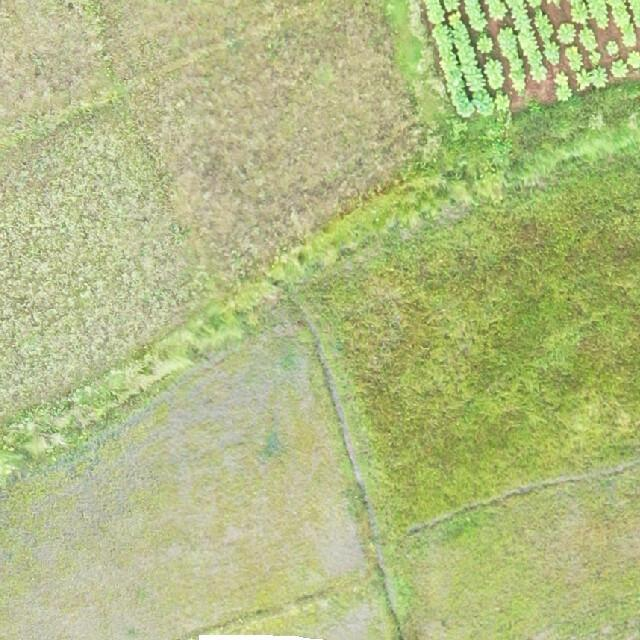tobacco: (0, 0, 640, 640), (422, 0, 640, 121)
